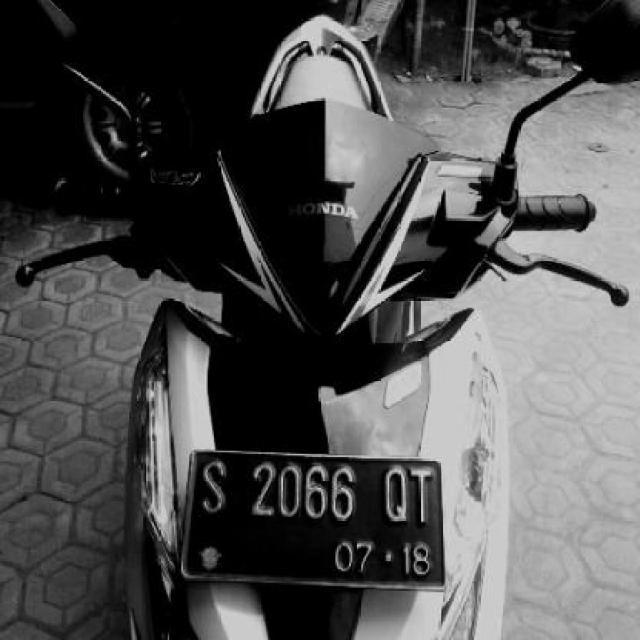0: (278, 462, 300, 522)
2: (252, 459, 280, 528)
6: (328, 464, 366, 522), (304, 460, 330, 525)
Q: (378, 466, 408, 526)
S: (196, 455, 228, 518)
T: (407, 463, 432, 523)
